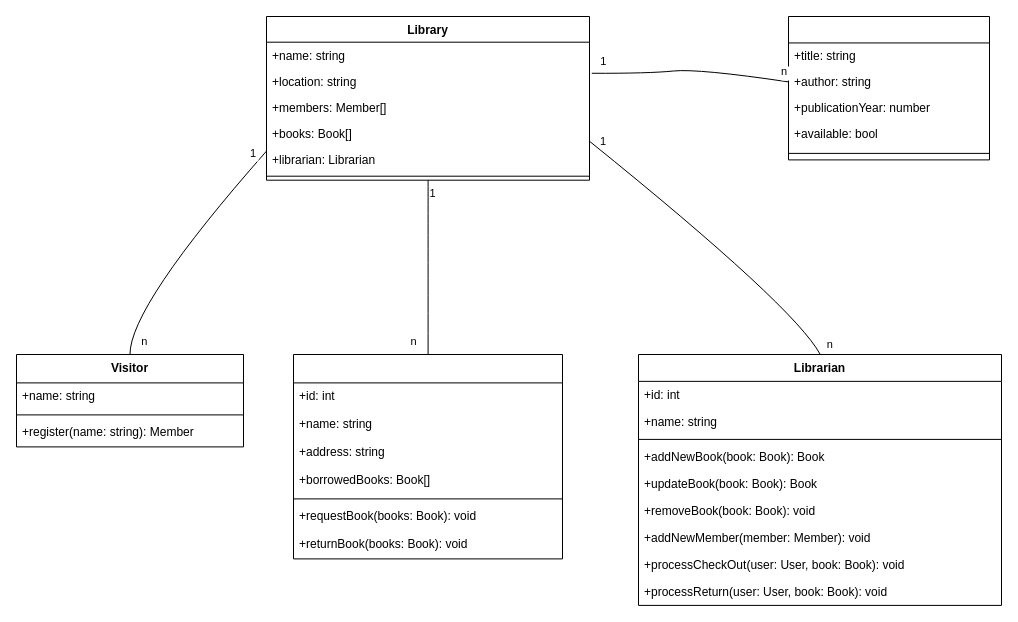
The diagram is 1018 pixels wide and 622 high, and some of its shapes have lost their labels. The shapes that lost their labels are listed below. From the top down, each one's box as (x1, y1, x2, y2) in pixels, then its label:
(788, 16, 990, 160): Book
(292, 354, 562, 559): Member
